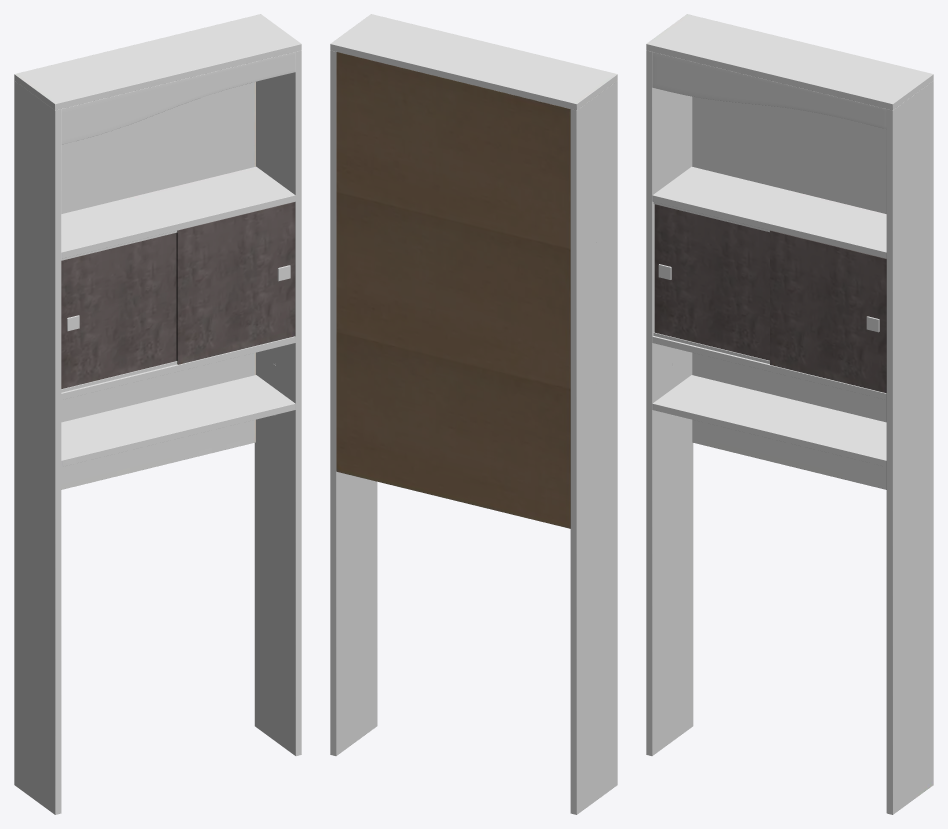
The model's file is abo-B07S6WNZ7Y.glb.
3 views of the same model, side by side, from view 1: azimuth 30°, elevation 25°; view 2: azimuth 150°, elevation 25°; view 3: azimuth 330°, elevation 25° (orthographic).
Bounding box in the file's own units: 0.643 × 1.77 × 0.192.
1 material, 1 textured.
